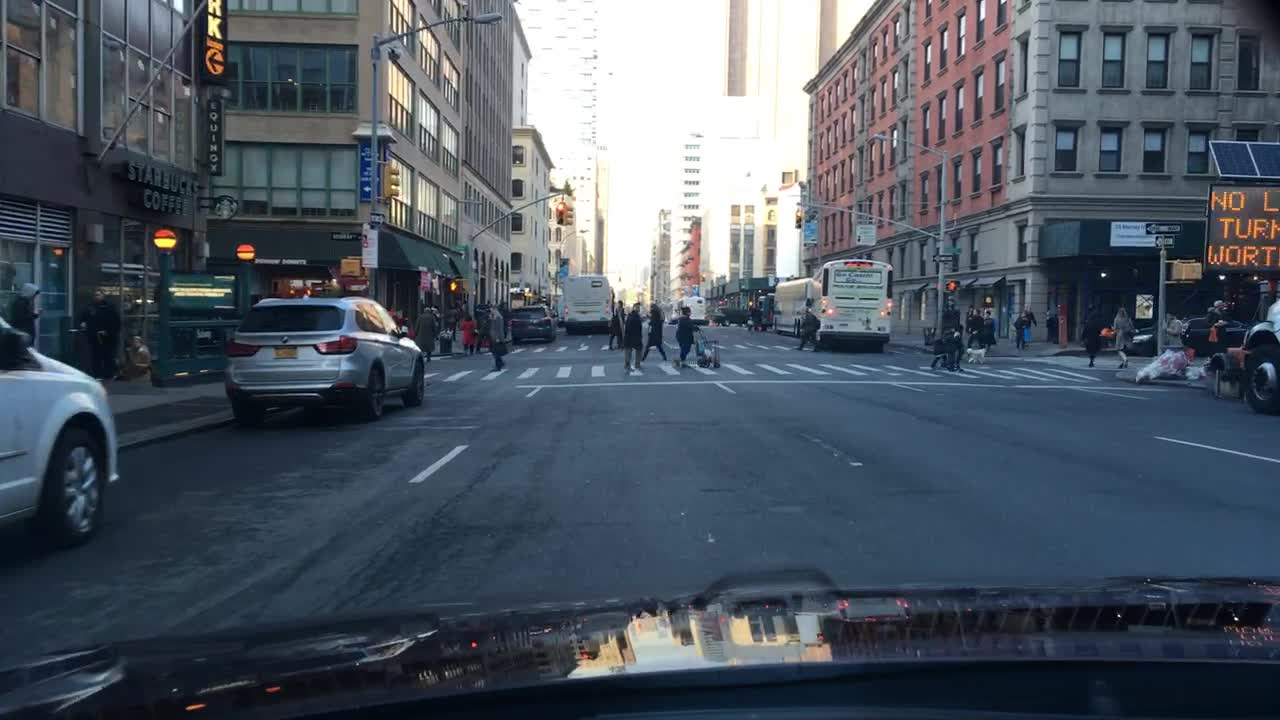bus: (808, 257, 894, 353), (561, 274, 607, 323), (770, 278, 810, 334), (672, 295, 706, 325)
car: (0, 313, 119, 549), (224, 295, 425, 425), (1125, 313, 1245, 353), (506, 303, 557, 345), (715, 309, 745, 326), (545, 298, 556, 318)
person: (88, 287, 119, 376), (8, 280, 46, 345), (672, 303, 702, 371), (483, 304, 511, 373), (1110, 302, 1137, 367), (642, 297, 668, 362), (623, 296, 644, 373), (1211, 297, 1234, 365), (1079, 304, 1098, 367), (422, 290, 443, 345), (1206, 299, 1222, 369), (796, 303, 817, 350), (415, 299, 431, 360), (1164, 308, 1183, 357), (455, 317, 476, 360), (925, 327, 947, 367), (948, 320, 965, 371), (609, 299, 625, 352), (1011, 311, 1029, 353), (128, 334, 147, 373), (966, 306, 981, 348), (939, 296, 960, 324), (746, 299, 762, 334), (985, 310, 997, 353), (1051, 315, 1059, 343), (1044, 310, 1050, 339), (978, 297, 985, 313)
traffic light: (386, 165, 400, 198), (339, 258, 362, 277), (1178, 263, 1203, 280), (458, 276, 475, 295), (444, 276, 461, 293), (940, 277, 958, 293), (558, 198, 566, 224), (549, 203, 558, 226), (788, 206, 794, 230), (794, 210, 801, 228), (568, 205, 573, 224)
traffic sign: (1205, 184, 1275, 272), (853, 222, 878, 247), (1140, 222, 1180, 236), (928, 252, 958, 261), (1149, 234, 1176, 244), (331, 232, 361, 239), (365, 213, 385, 223), (939, 245, 965, 252)
truck: (1245, 293, 1277, 418)
